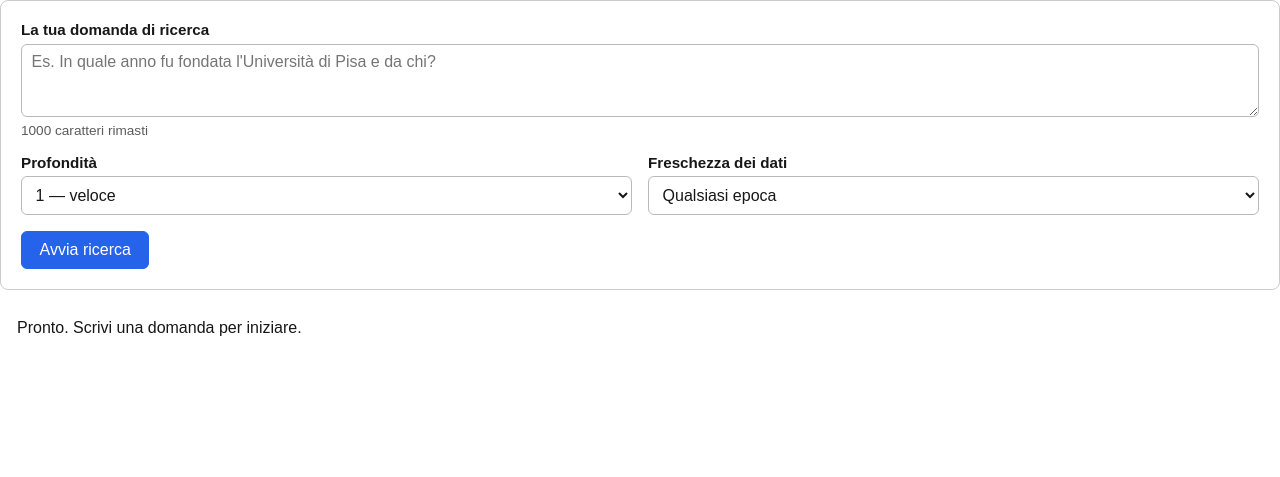
Test case: ResearchRun › errore di rete → messaggio generico e reset con Riprova
Type "In quale anno fu fondata l'Università di Pisa e da chi?" into the text box labelled "La tua domanda di ricerca" at point(640, 80), box [21,44,1259,117]
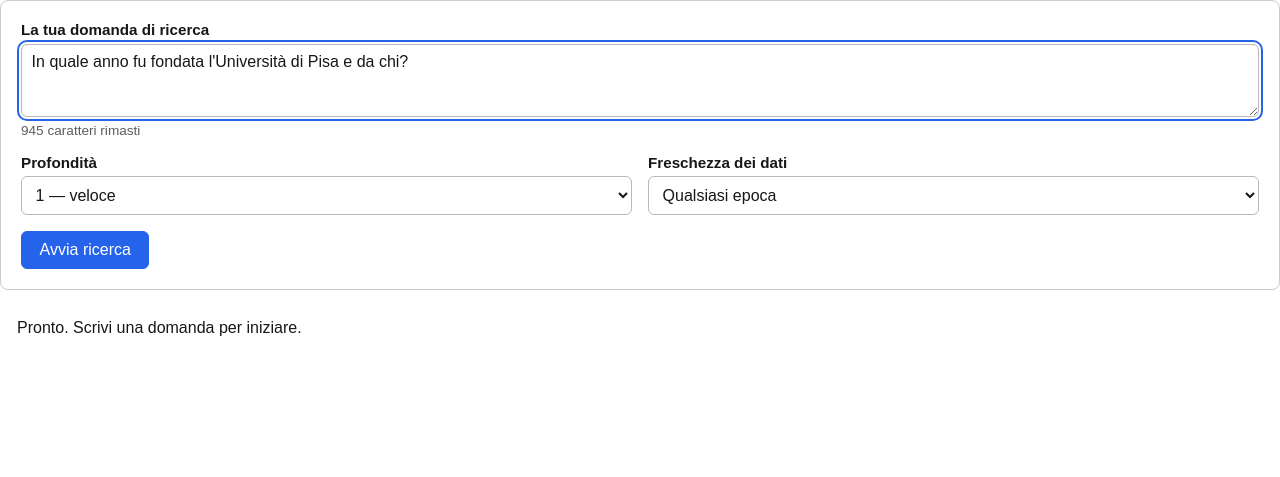
Click the button "Avvia ricerca" at point(85, 250), box [21,231,150,269]
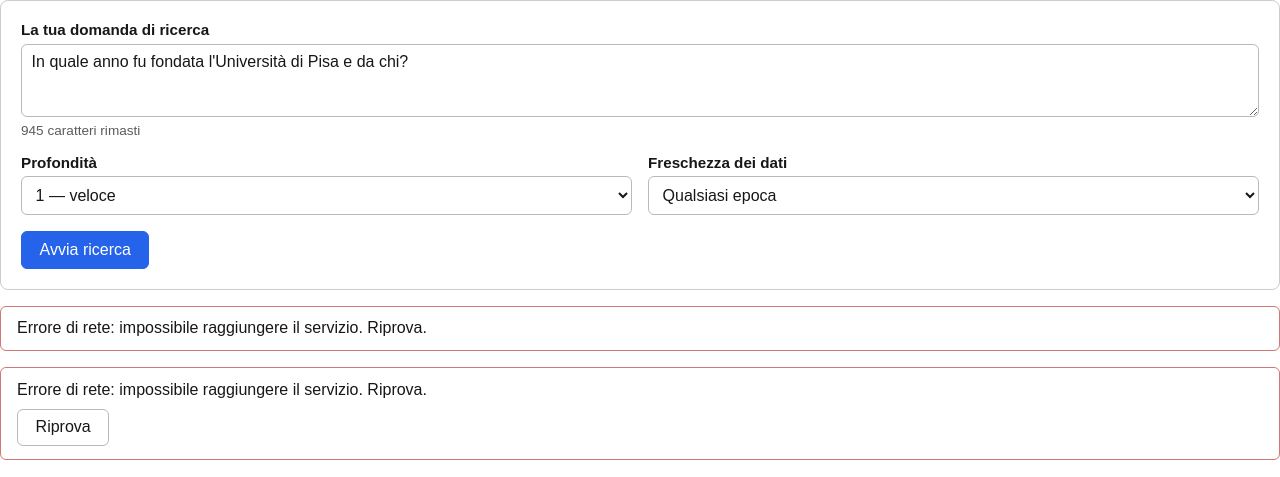
Check: the 1st text "Errore di rete: impossibile raggiungere il servizio. Riprova." is shown, box [17,319,427,337]
Click the button "Riprova" at point(63, 427), box [17,408,109,446]
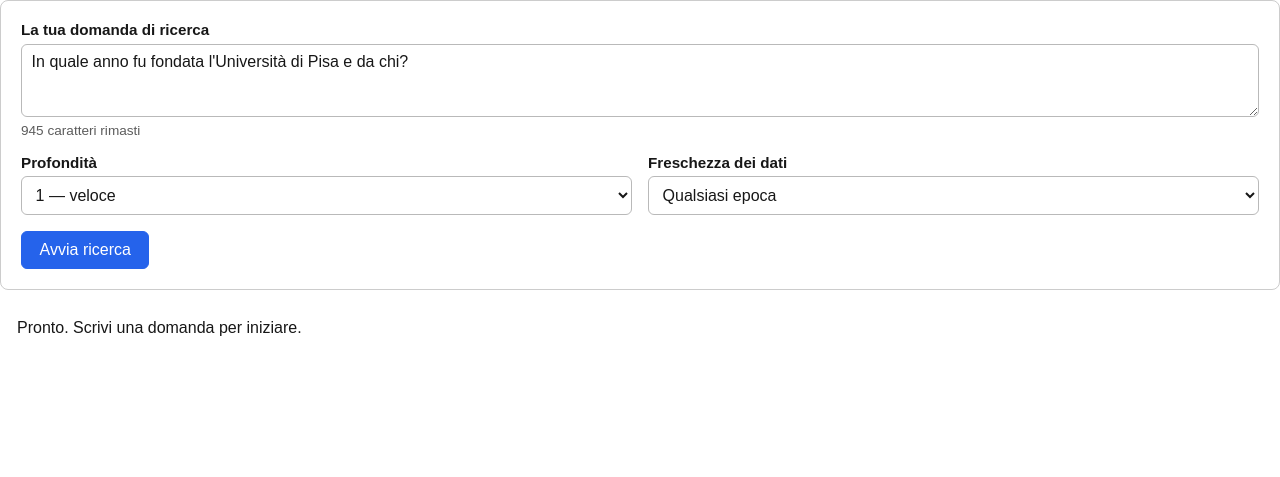
Check: the text "Pronto. Scrivi una domanda per iniziare." is shown, box [17,319,302,337]
